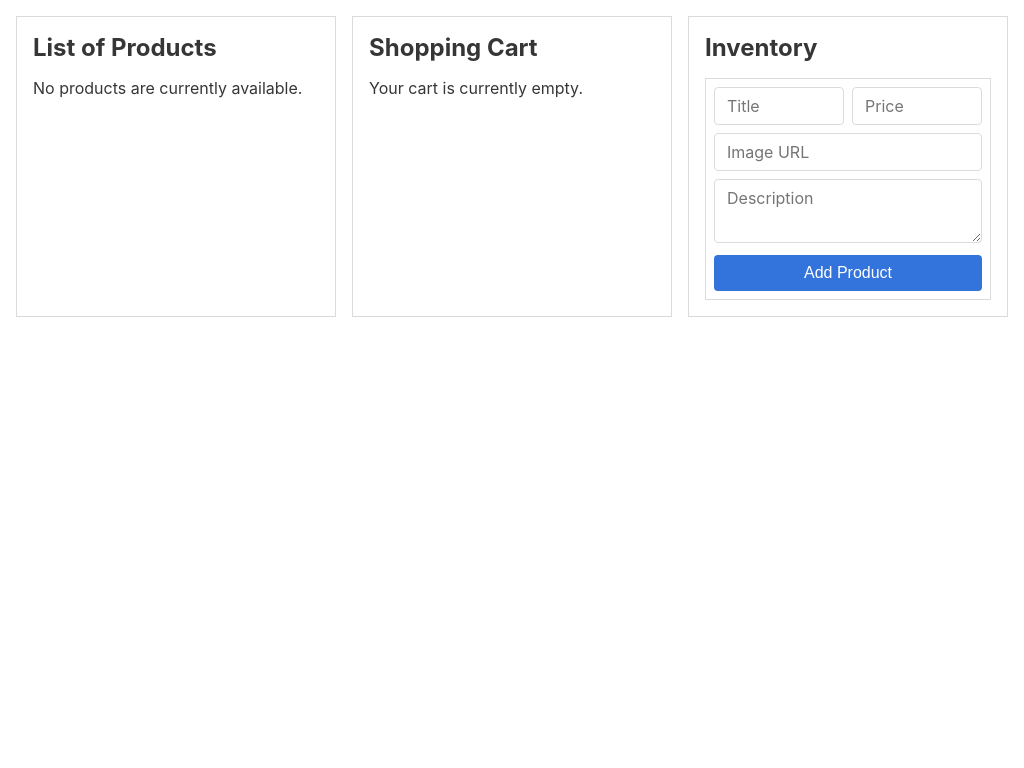
Test: Full Flow of the App › adds a new item to inventory and showcase
Type "Test product title" into the field named "title" at (779, 106), box [714, 87, 844, 125]
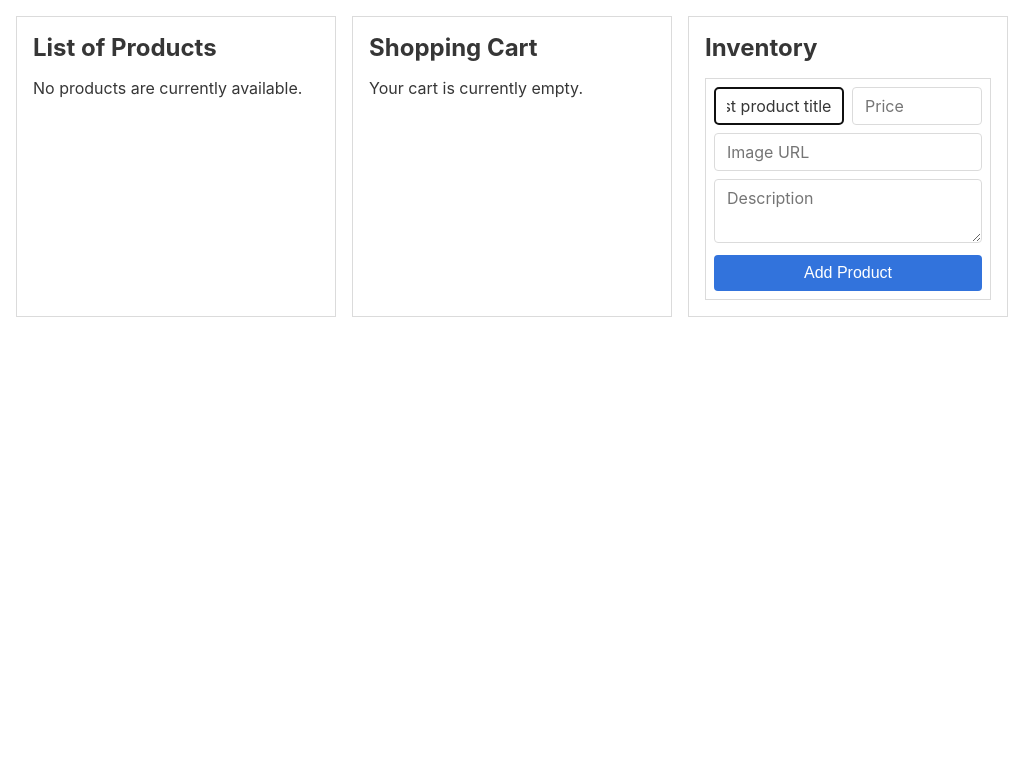
Type "1.25" into the number field named "price" at (917, 106), box [852, 87, 982, 125]
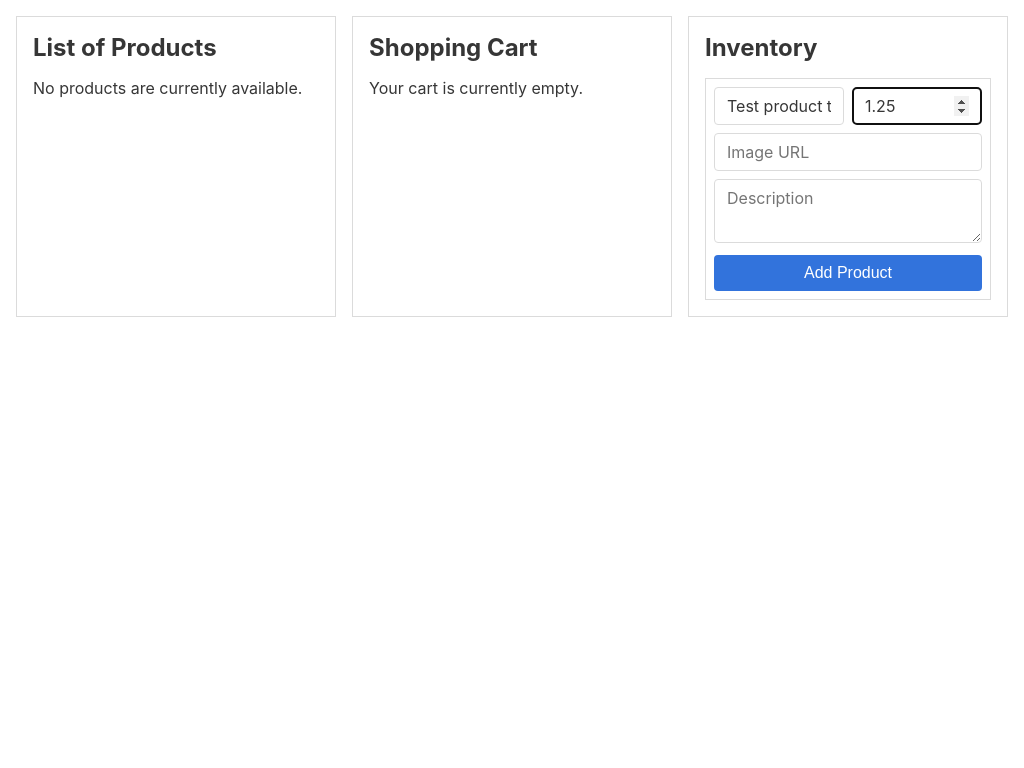
Type "https://images.dog.ceo/breeds/setter-gordon/n02101006_6126.jpg" into the field named "image" at (848, 152), box [714, 133, 982, 171]
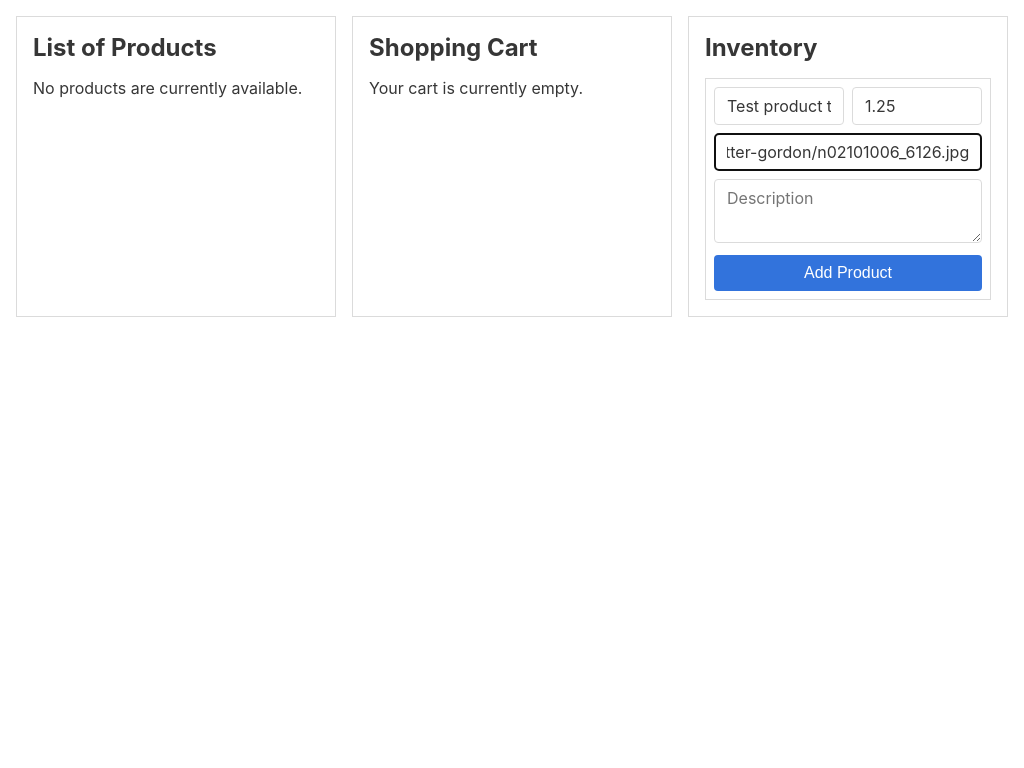
Type "Product description, not too long, not too short. Not too good either." into the text box named "description" at (848, 211), box [714, 179, 982, 243]
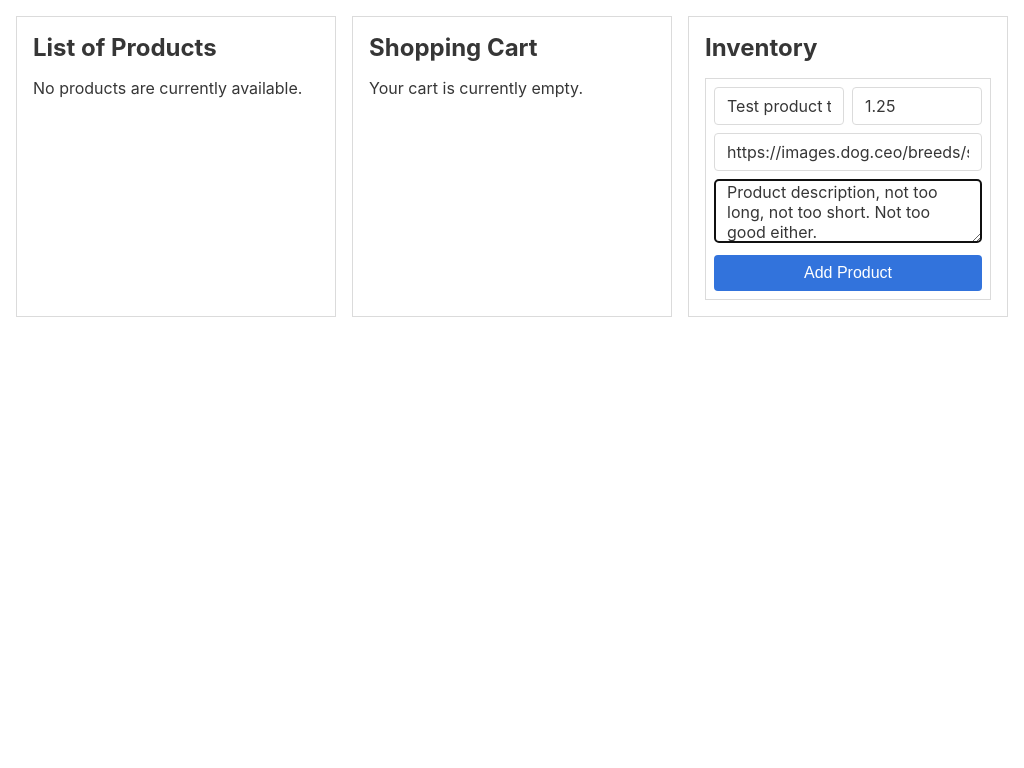
Click the button "Add Product" at (848, 273), box [714, 255, 982, 291]
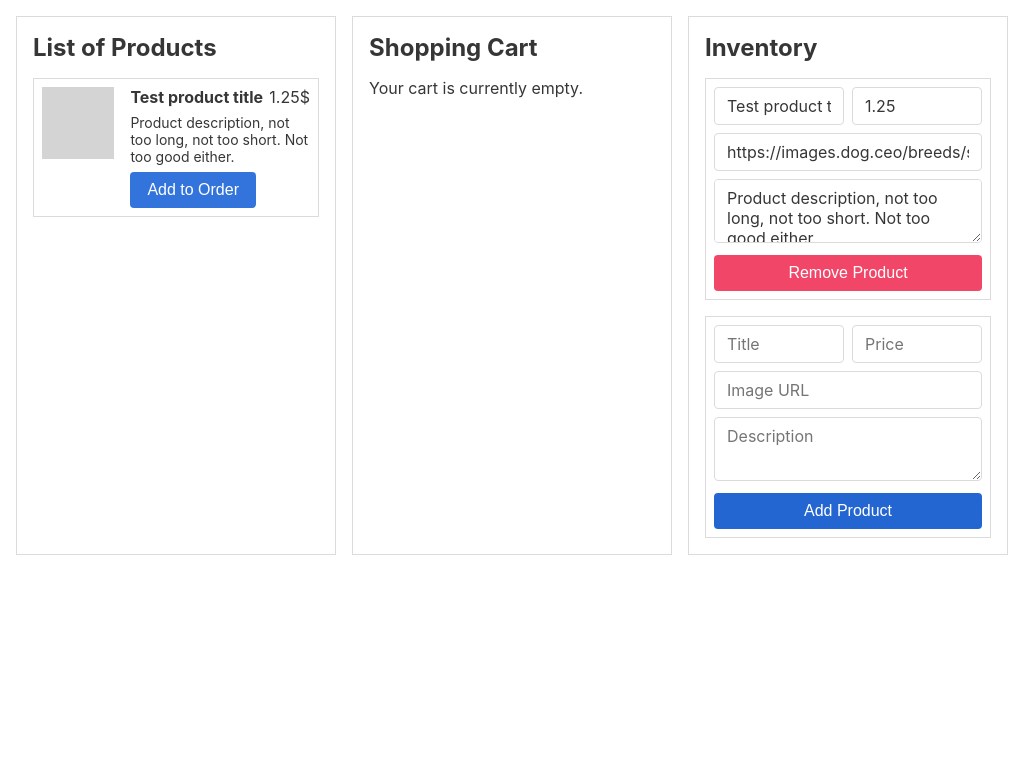
Expected: the heading "Test product title" is shown, [130, 87, 263, 107]
Expected: the text "Product description, not too long, not too short. Not too good either." is shown, [130, 114, 310, 165]
Expected: the button "Add to Order" is shown, [130, 172, 256, 208]
